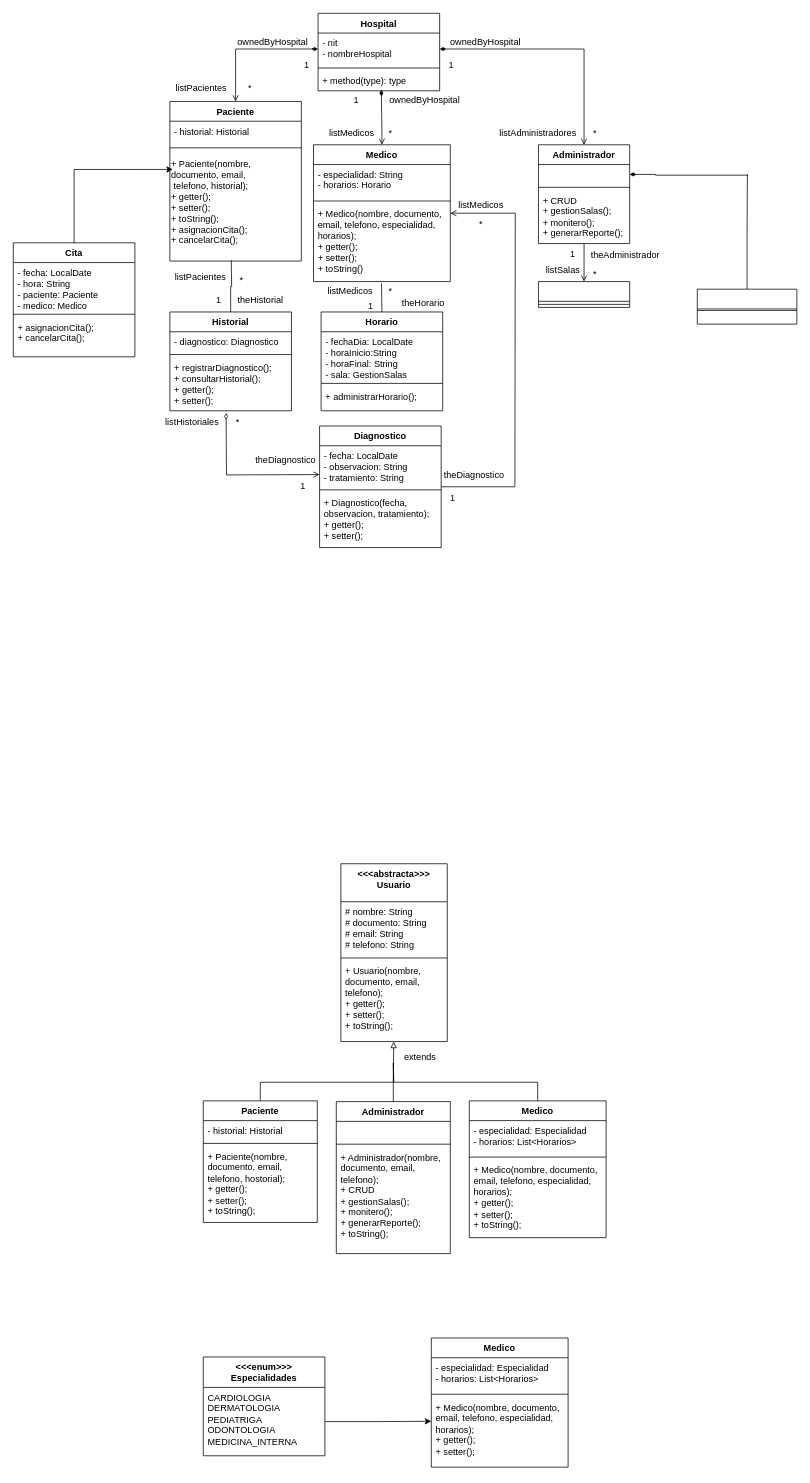
Image size: 810x1483. Some labels were removed from this diagram. Here are the shapes that lost their labels. From the top down, the centre of each, then its label:
the point at 584,294: GestionSalas
the point at 747,306: Reporte
